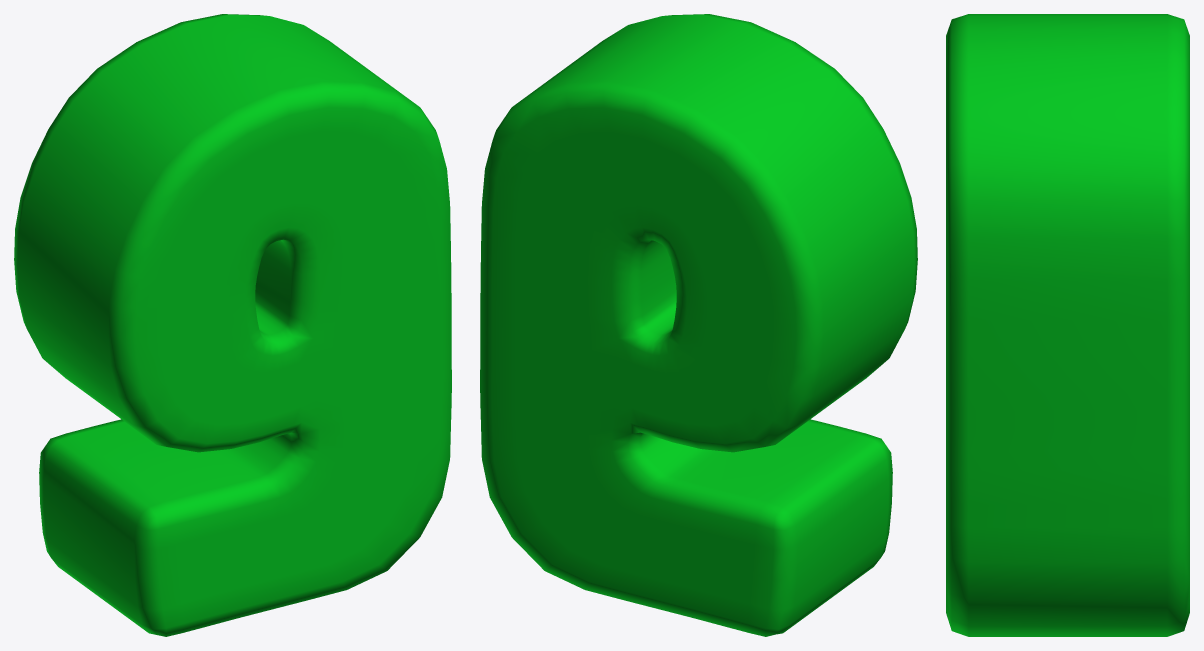
The picture shows the model from 3 angles, left to right: view 1: azimuth 30°, elevation 25°; view 2: azimuth 150°, elevation 25°; view 3: azimuth 270°, elevation 25°; orthographic projection. The views are drawn at different scales.
Parts seen in each view (by area): view 1: A:Mesh9_numbers_0; view 2: A:Mesh9_numbers_0; view 3: A:Mesh9_numbers_0.
Boxes of the visible parts, left/top/right/bottom form: A:Mesh9_numbers_0: left=14, top=14, right=451, bottom=636; A:Mesh9_numbers_0: left=480, top=14, right=917, bottom=636; A:Mesh9_numbers_0: left=946, top=14, right=1189, bottom=636.
Bounding box in the file's own units: 23.88 × 34.56 × 13.53.
